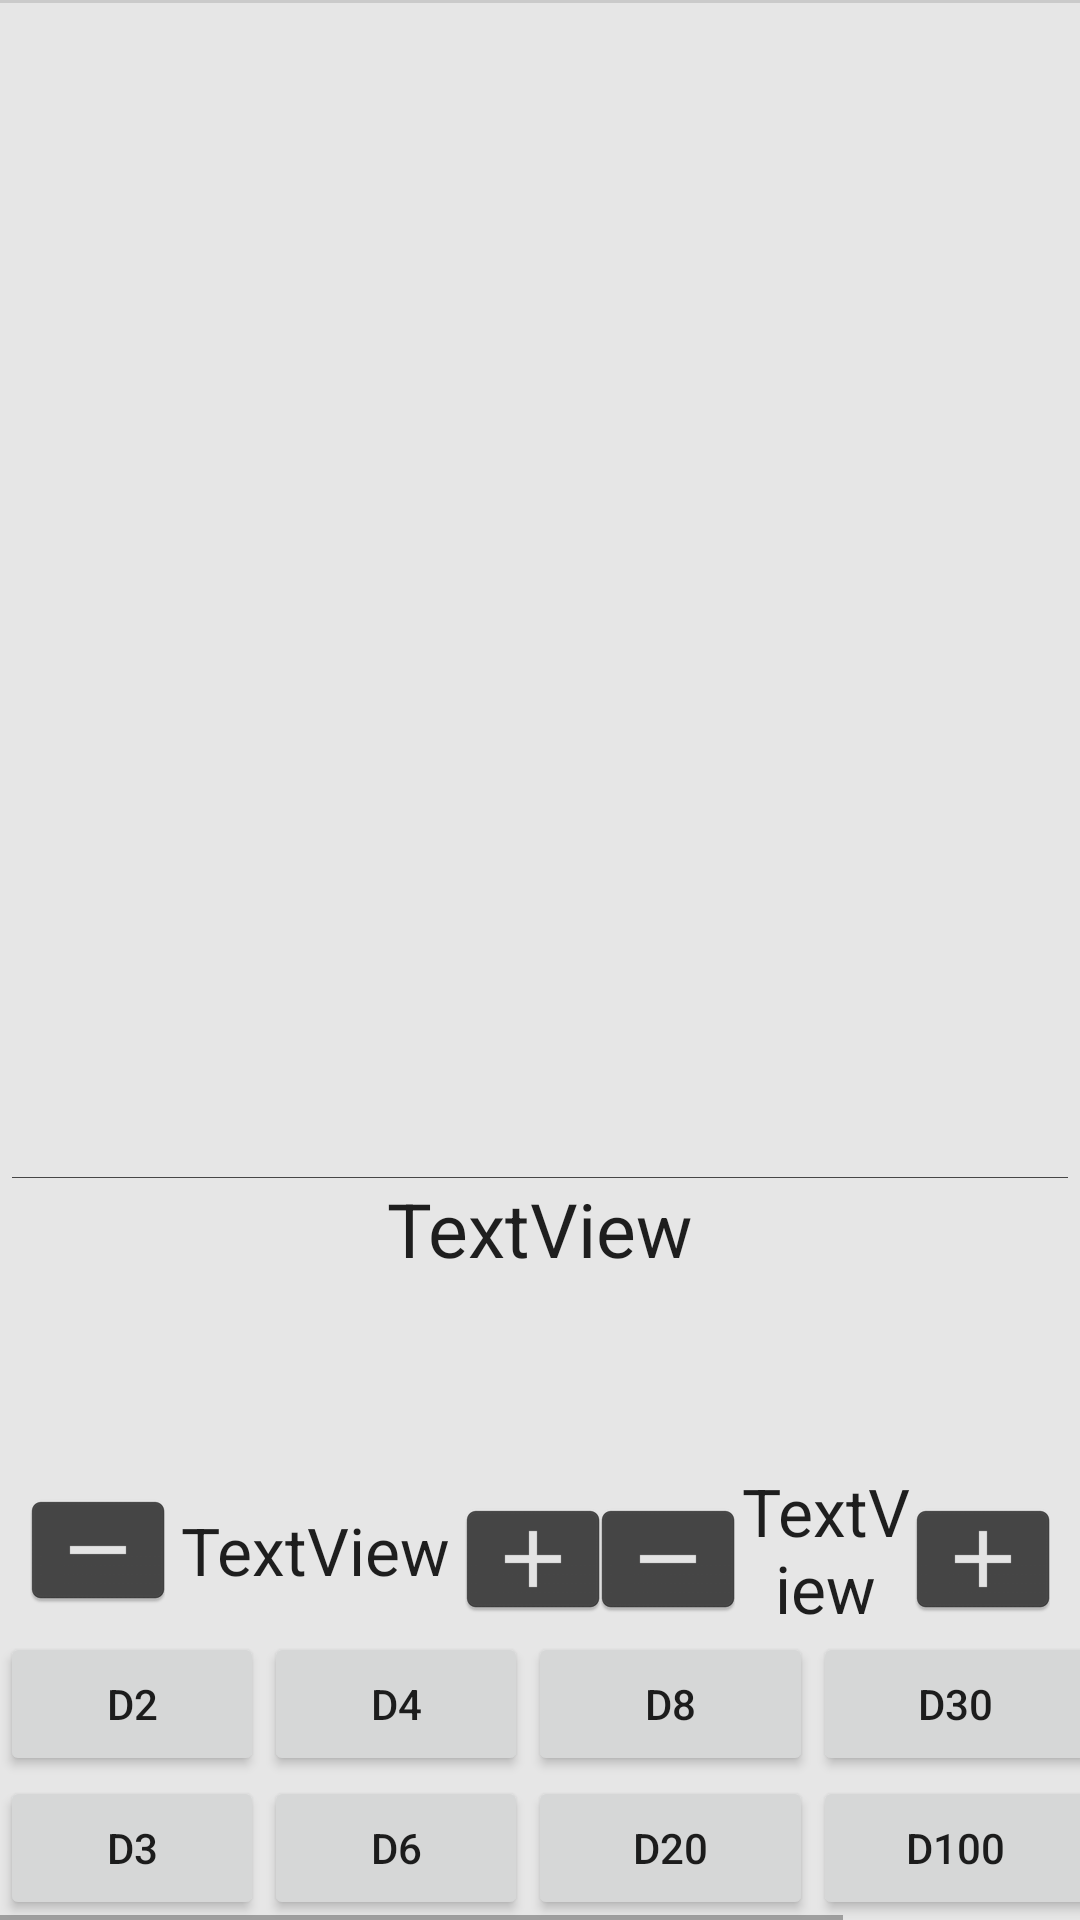

Where icons sit on this 1080×1920 app screen, as [x1=x1, y1=y1, x2=x2, y2=y2]:
minus: [x1=31, y1=1502, x2=165, y2=1601], [x1=601, y1=1511, x2=735, y2=1610]
plus: [x1=466, y1=1511, x2=600, y2=1610], [x1=916, y1=1511, x2=1050, y2=1610]
